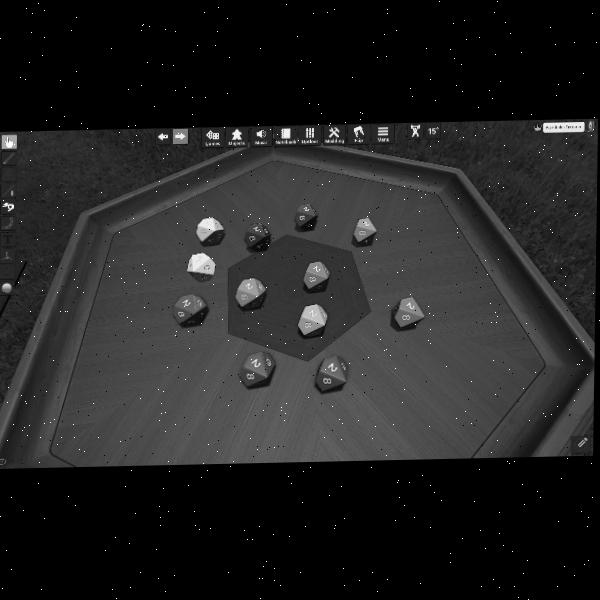d10: (239, 349, 276, 387), (314, 354, 347, 391), (174, 292, 209, 325), (235, 276, 266, 309), (393, 296, 423, 328), (298, 304, 326, 336), (187, 252, 217, 281), (244, 221, 271, 251), (196, 216, 223, 245), (303, 261, 329, 291), (354, 217, 377, 245), (294, 203, 315, 229)
